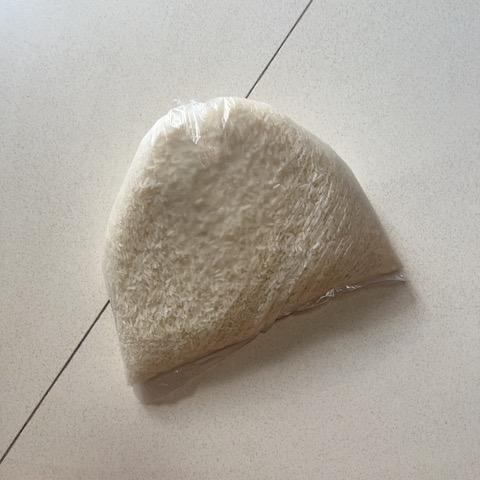rice: (99, 95, 405, 394)
